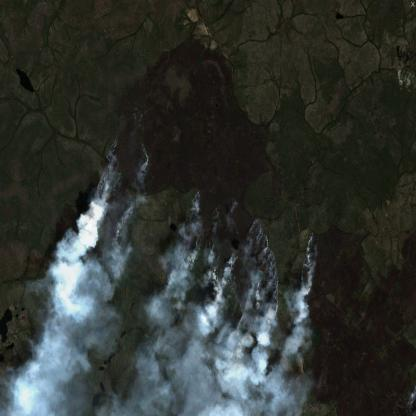fire: (84, 118, 284, 357), (296, 227, 324, 321)
